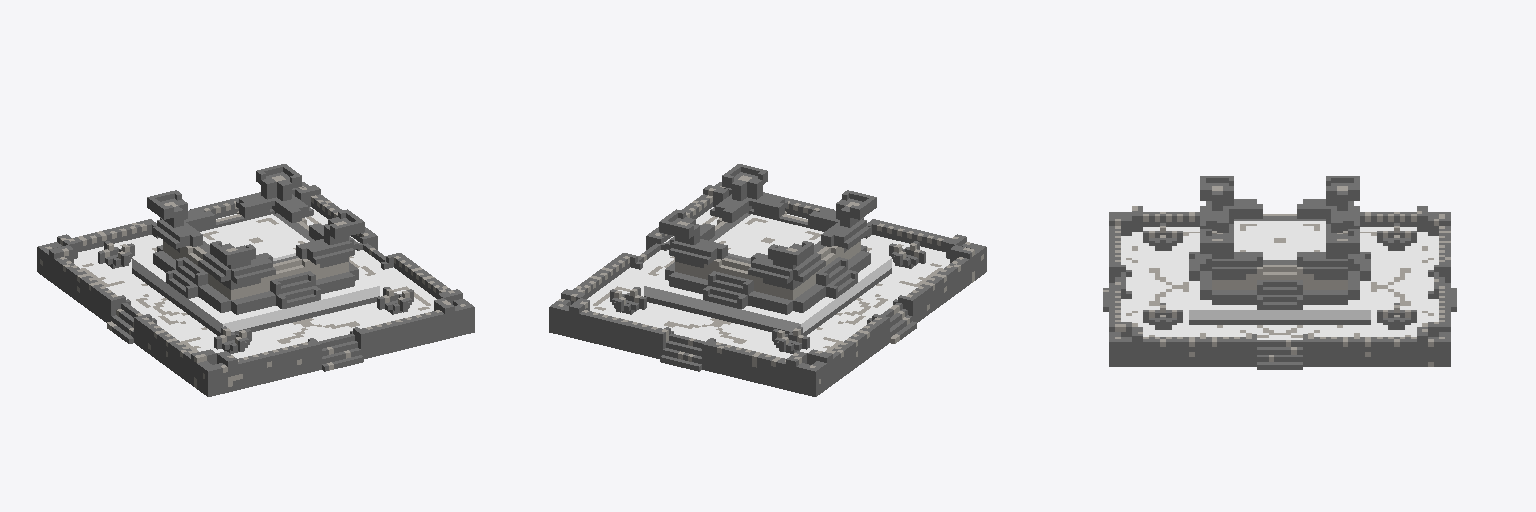
3 renders of one model, left to right at view 1: azimuth 30°, elevation 25°; view 2: azimuth 150°, elevation 25°; view 3: azimuth 270°, elevation 25°, orthographic.
Parts seen in each view (by area): view 1: object 1; view 2: object 1; view 3: object 1.
Part boxes in pixels (x1,y1,x2,y2): object 1: (37, 164, 474, 396); object 1: (549, 164, 986, 396); object 1: (1103, 176, 1456, 369).
Bounding box in the file's own units: 5.6 × 1.8 × 6.2.
1 materials, 1 textured.